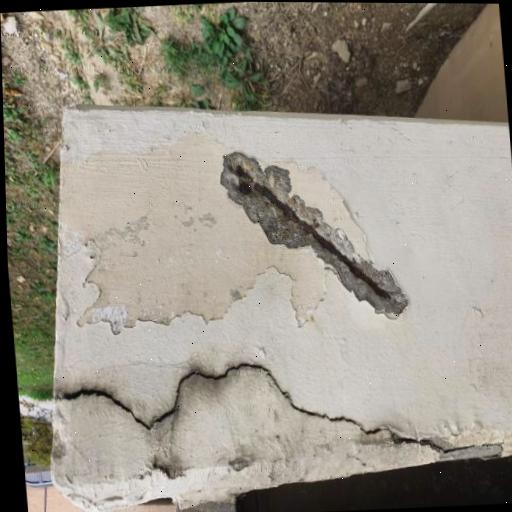exposed_rebar: (254, 183, 387, 295), (236, 166, 245, 177)
spalling: (220, 152, 408, 318)
